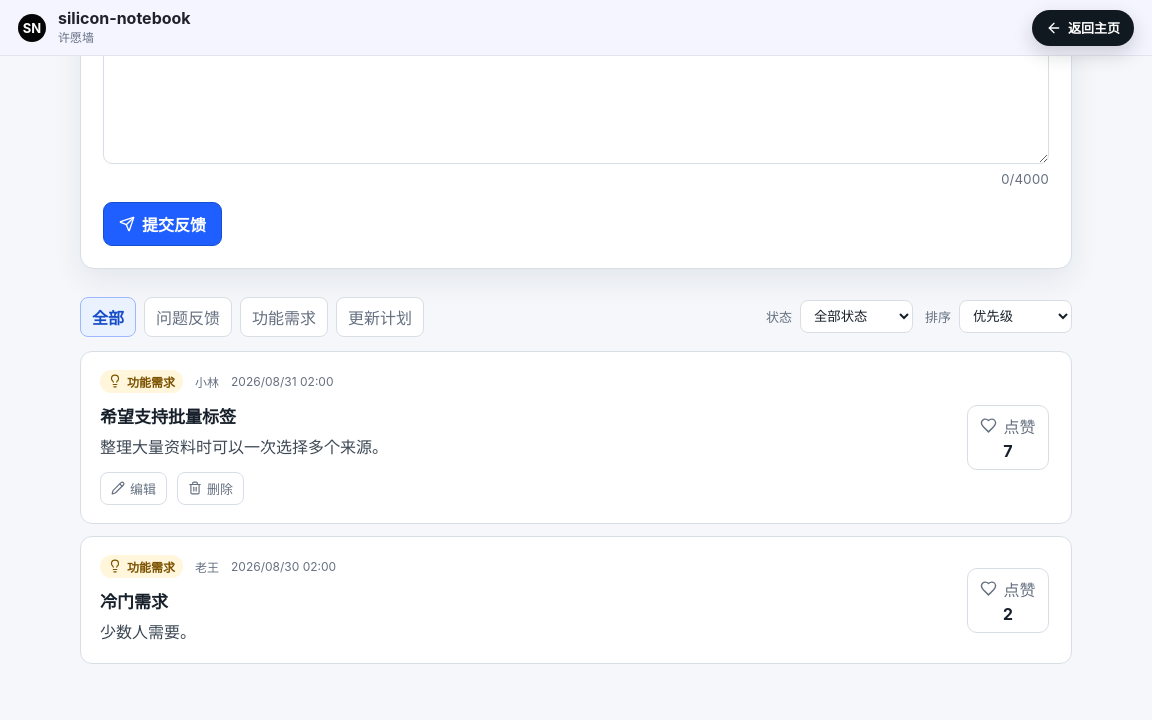
Test case: 删除需要在卡片内二次确认，成功后卡片消失且总数同步
The image size is (1152, 720).
(page scrolled)
Expected: the text "希望支持批量标签" is shown, 100,407 -> 236,427
Click the button "删除": click(210, 488) 177,472 -> 244,505
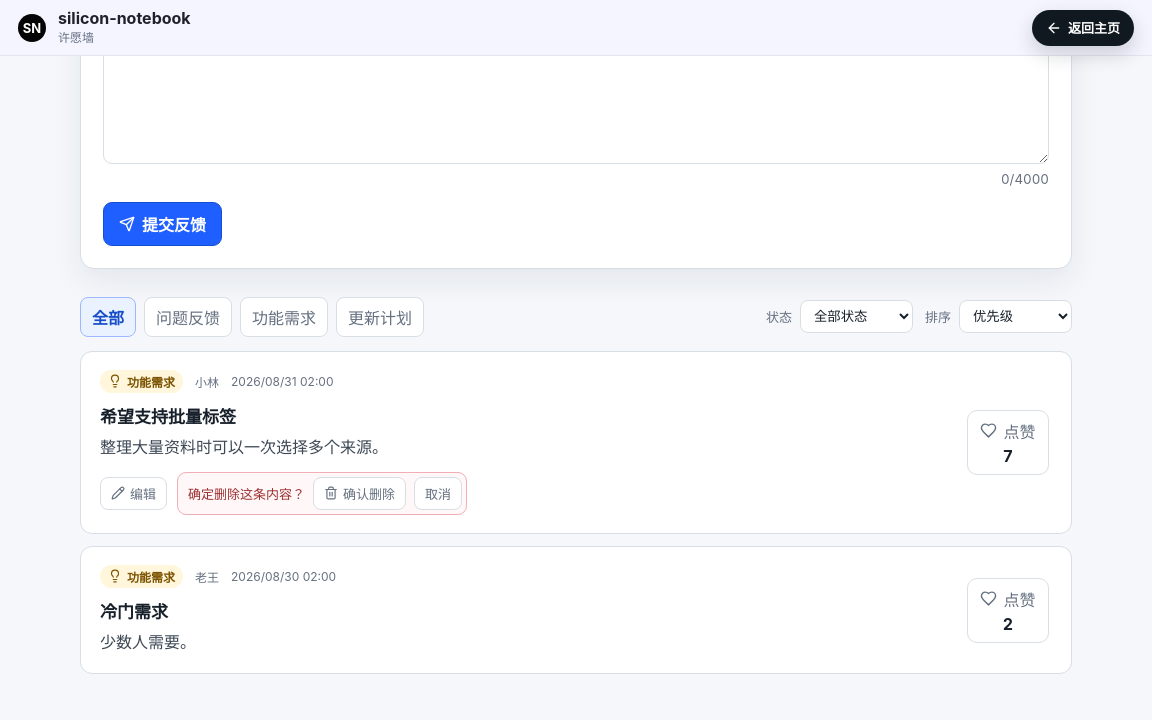
Now the element "确认删除" shows "确定删除这条内容？", box 188,486 -> 305,502
Click the button "取消": click(438, 494) 414,477 -> 462,510
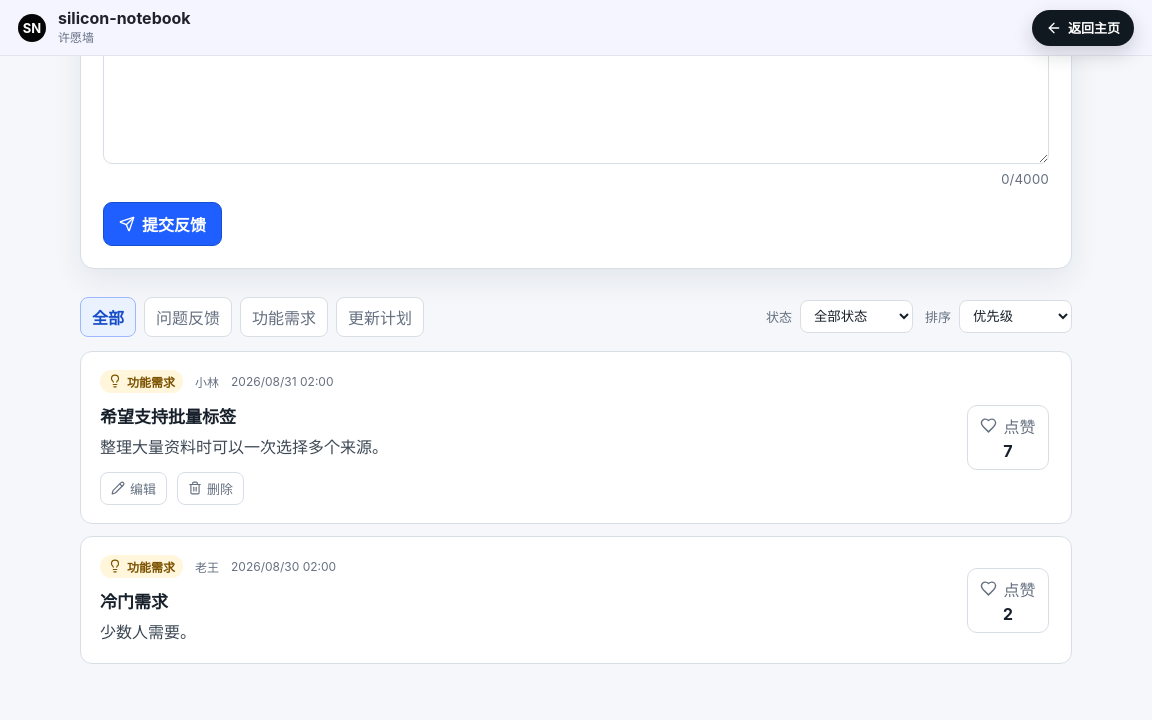
Now the button "确认删除" is gone
Click the button "删除": click(210, 488) 177,472 -> 244,505
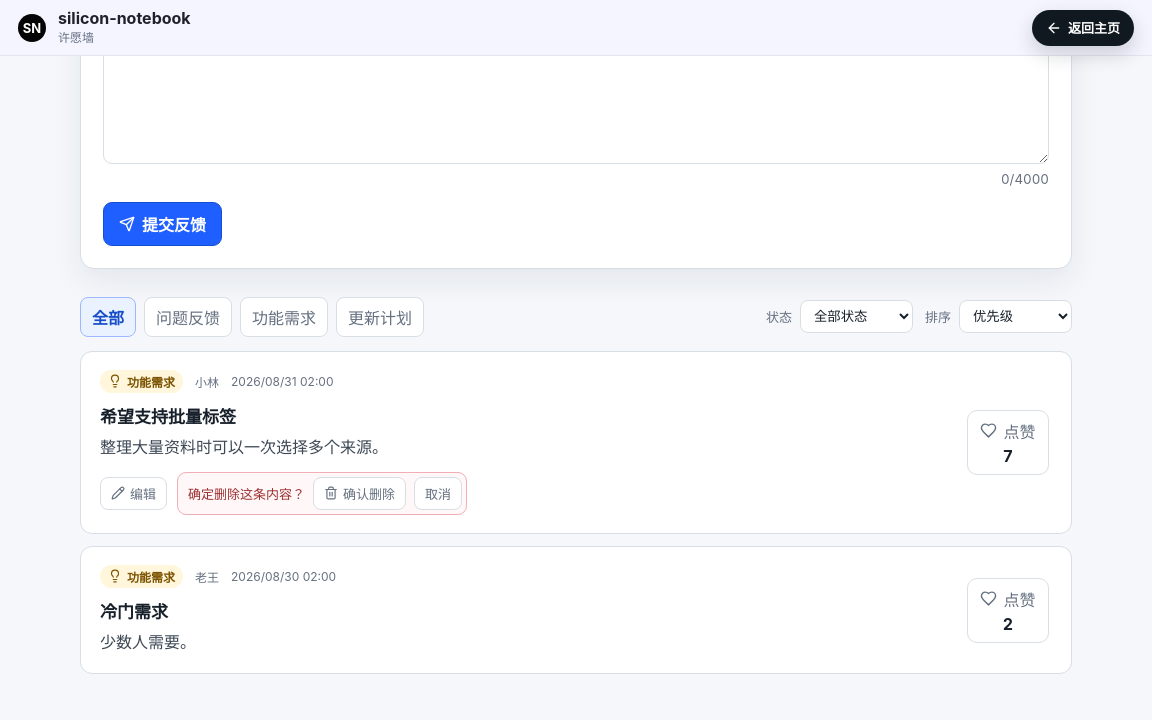
Click the button "确认删除": click(360, 494) 313,477 -> 406,510
(page scrolled)
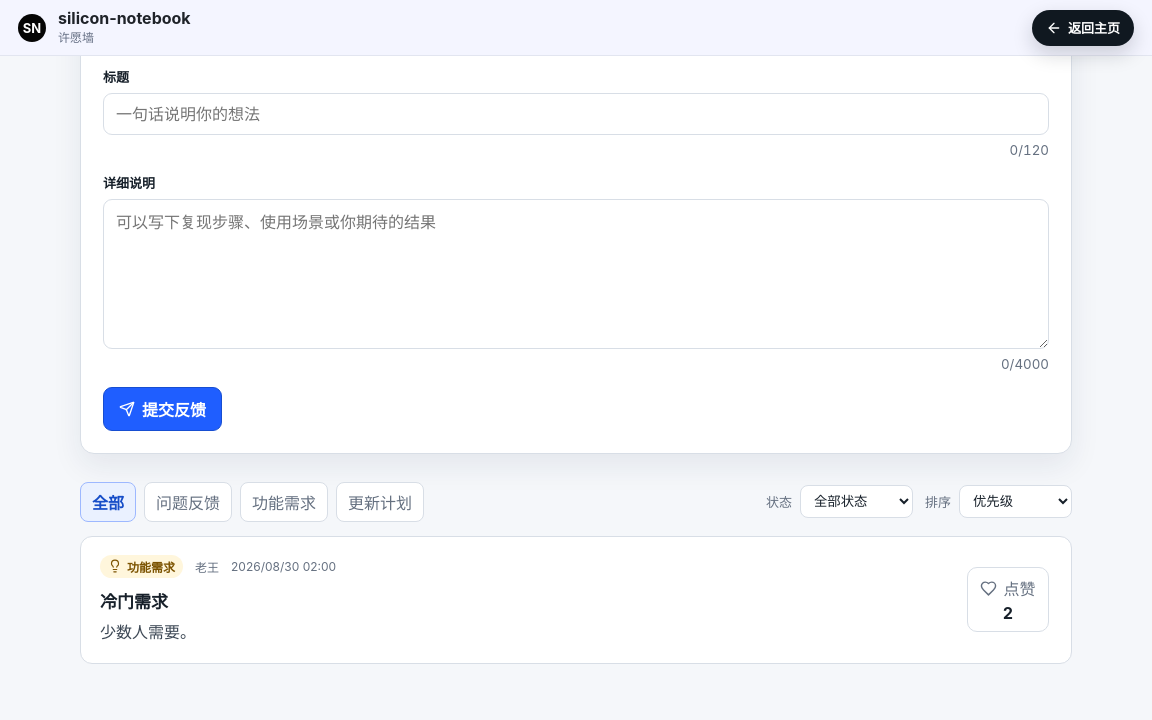
Expected: the heading "冷门需求" is shown, 100,592 -> 168,612
Now the heading "希望支持批量标签" is gone
